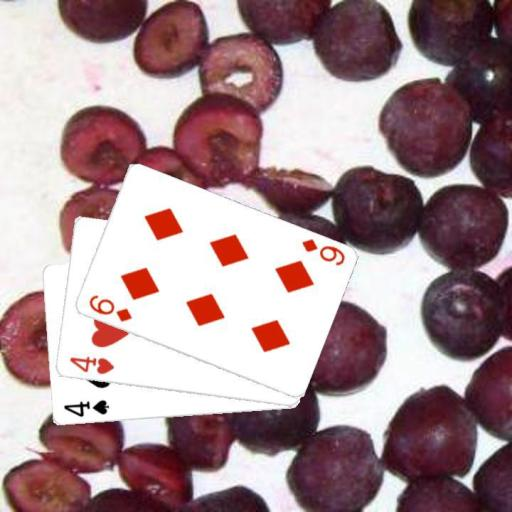4H: (66, 354, 115, 377)
4S: (60, 397, 110, 419)
6D: (85, 292, 133, 324), (298, 236, 346, 268)
